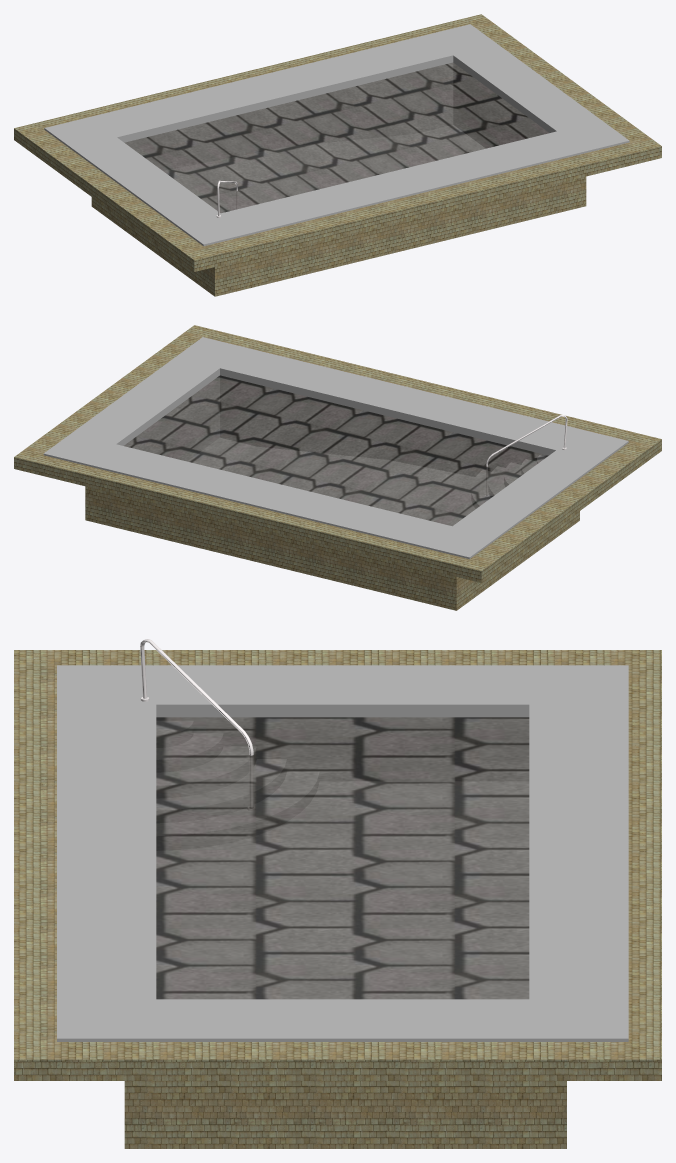
Rendered from Sin.dae.
The picture shows the model from 3 angles, top to bottom: view 1: azimuth 30°, elevation 25°; view 2: azimuth 150°, elevation 25°; view 3: azimuth 270°, elevation 25°; orthographic projection. The views are drawn at different scales.
Visible parts, largest first — view 1: Pool_Rectangular1, Model; view 2: Pool_Rectangular1, Model, step5; view 3: Pool_Rectangular1, Model, step5, step4, step3, step2, railing1, step1.
Part boxes in pixels (x1,y1,x2,y2): Pool_Rectangular1: (44,24,629,246); Model: (14,14,661,296); Pool_Rectangular1: (43,337,628,559); Model: (14,325,661,610); step5: (471,470,490,508); Pool_Rectangular1: (57,665,628,1041); Model: (14,650,661,1148); step5: (156,772,319,850); step4: (156,759,286,822); step3: (156,746,256,798); step2: (156,733,223,772); railing1: (140,639,253,808); step1: (156,721,193,747).
Size of the model in its own units: 1398 by 934 by 308.
